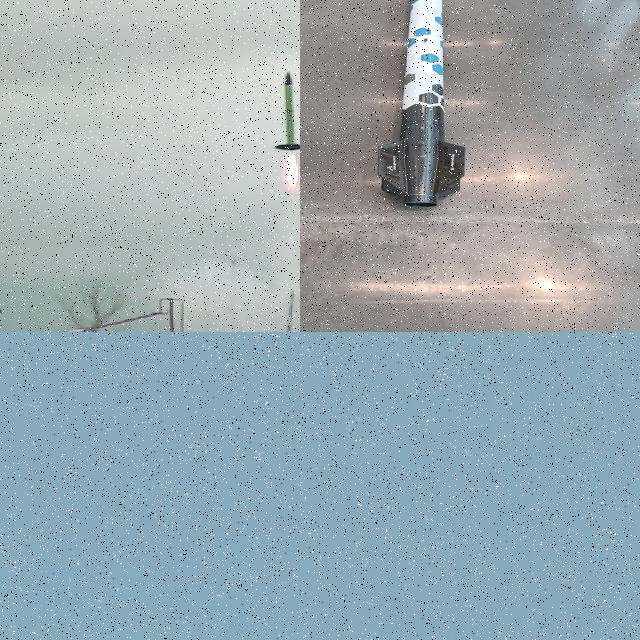Rocket: (378, 0, 466, 208), (272, 69, 300, 151)
